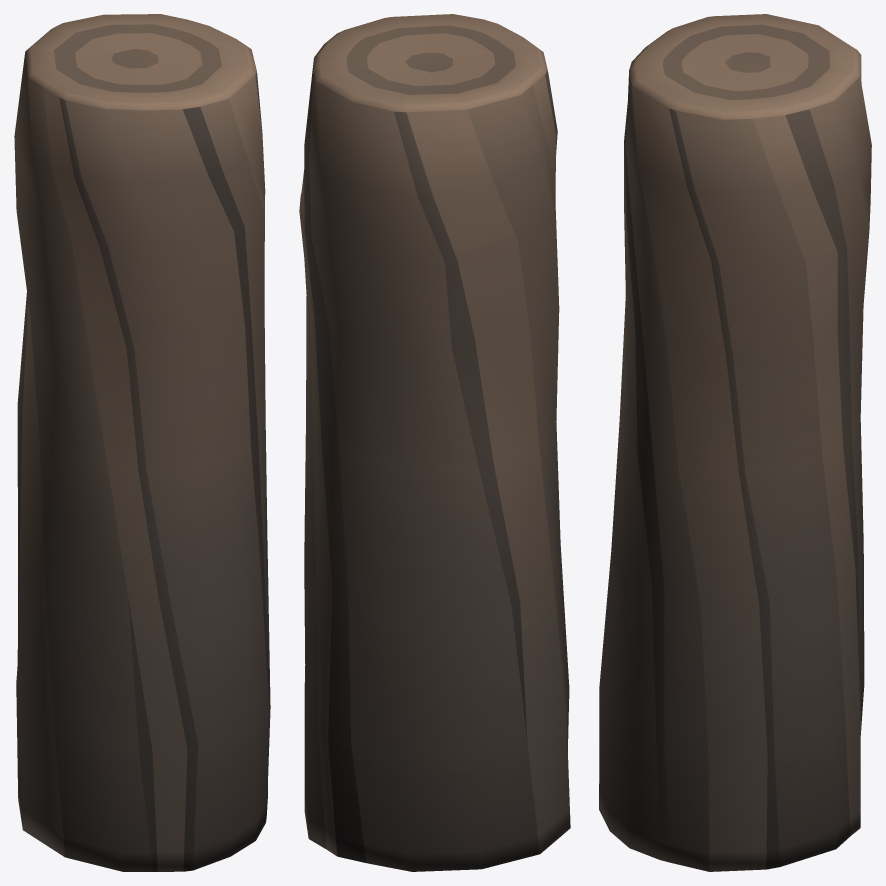
File: elf_totem_pole_1.fbx
3 views of the same model, side by side, from view 1: azimuth 30°, elevation 25°; view 2: azimuth 150°, elevation 25°; view 3: azimuth 270°, elevation 25° (orthographic). The views are drawn at different scales.
Visible parts, largest first — view 1: elf_totem_pole_1; view 2: elf_totem_pole_1; view 3: elf_totem_pole_1.
Part boxes in pixels (x1,y1,x2,y2): elf_totem_pole_1: (14,14,270,871); elf_totem_pole_1: (299,14,570,871); elf_totem_pole_1: (599,14,871,871).
Bounding box in the file's own units: 1.36 × 4.42 × 1.44.
